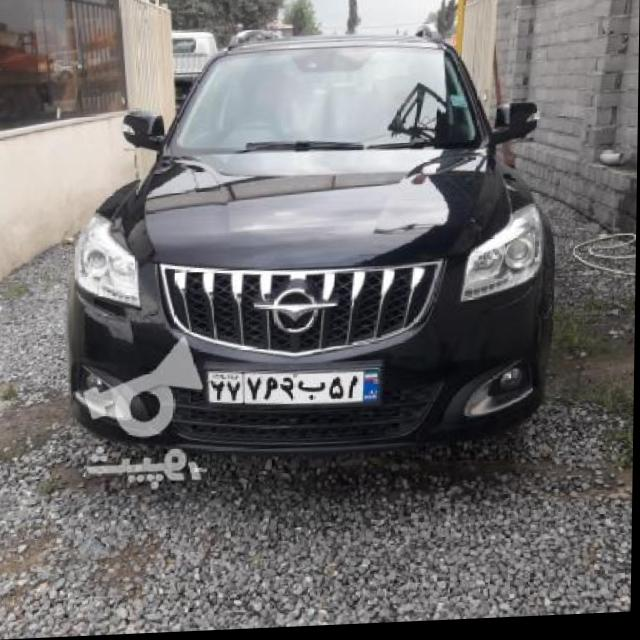licence: (211, 365, 385, 419)
